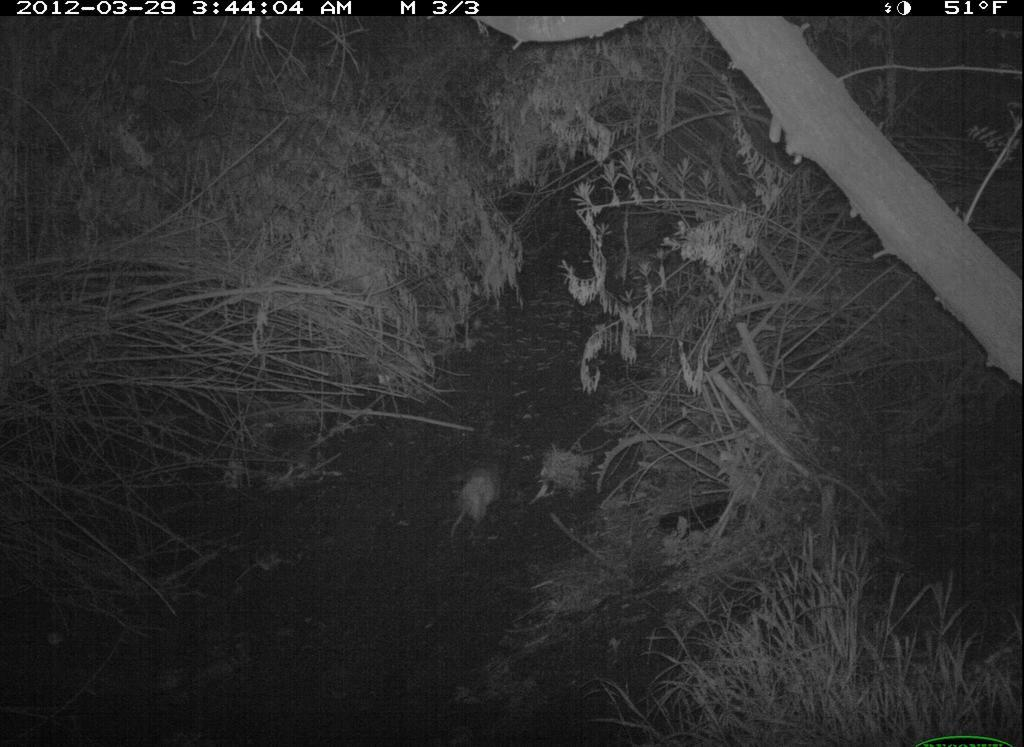opossum: (428, 447, 516, 555)
